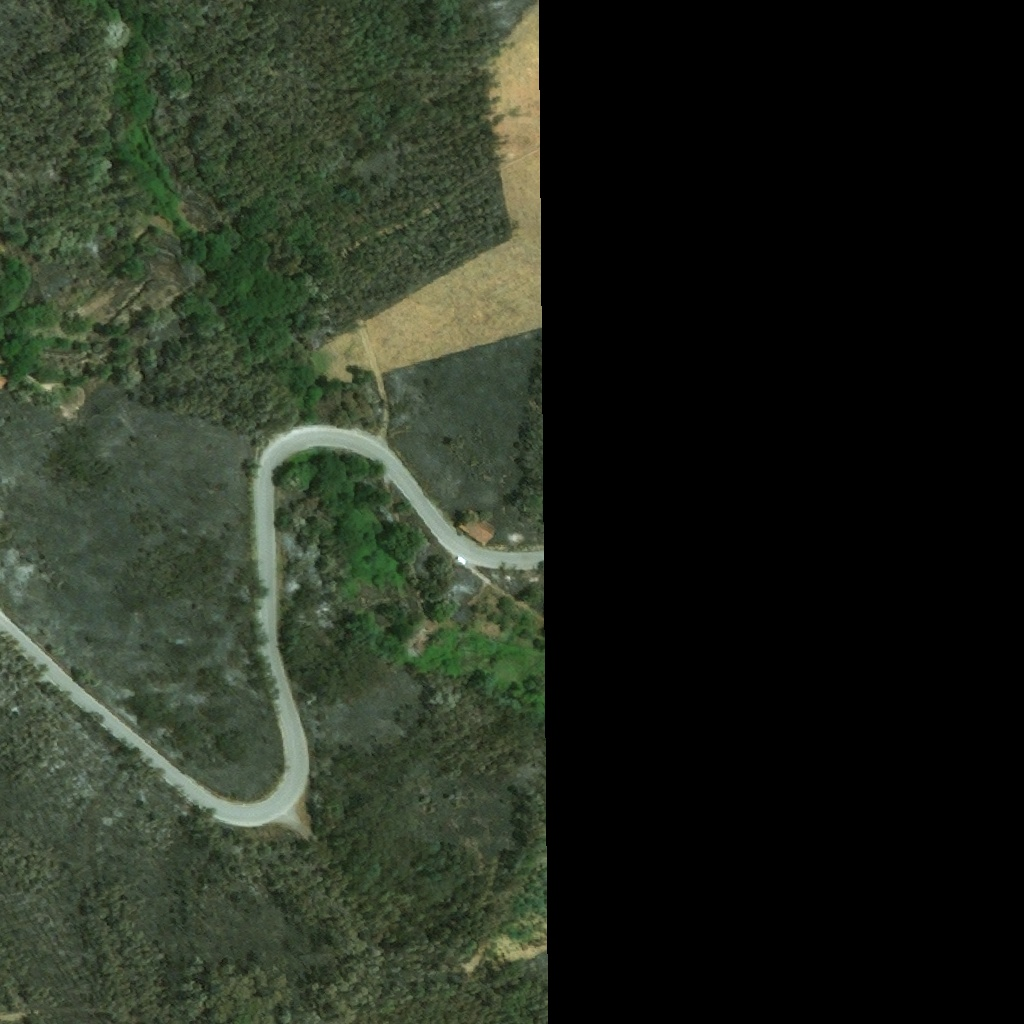0 no-damage: (458, 509, 496, 546)
4 un-classified: (403, 617, 446, 660)
